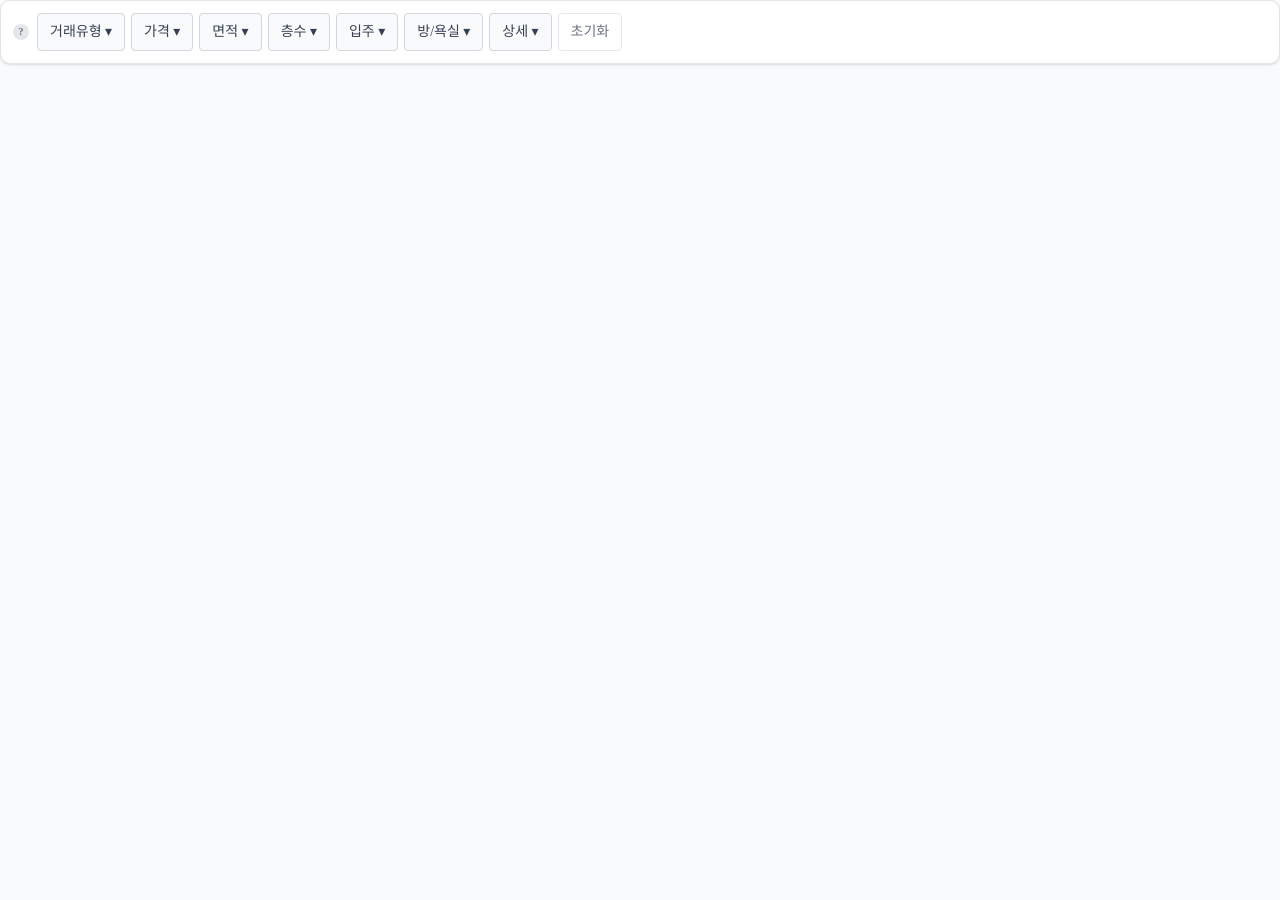
Scenario: FilterBar — 거래유형 드롭다운 › 드롭다운 열면 거래유형 선택지 표시
Click the button "거래유형 ▾": [81, 32] box [37, 13, 125, 51]
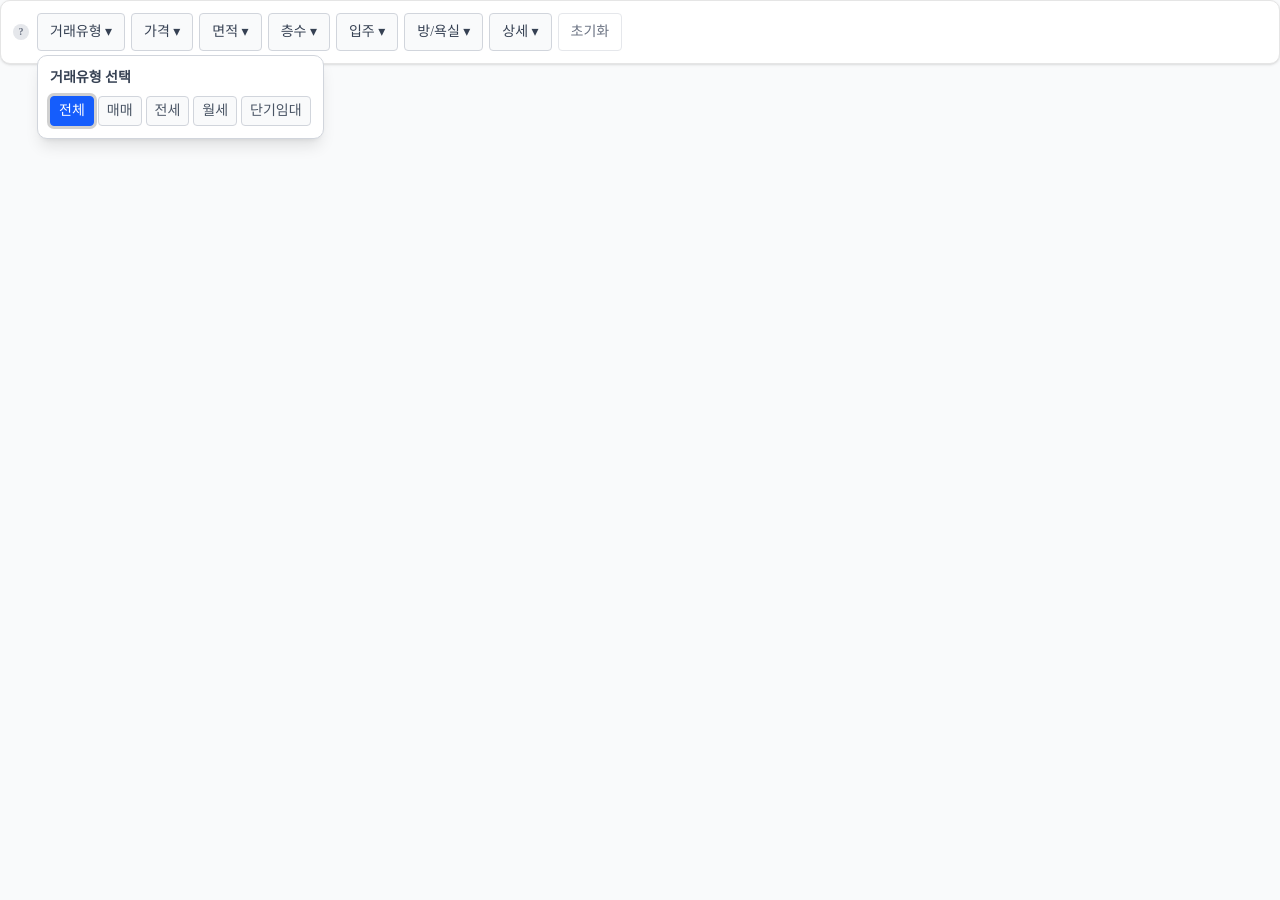
Expected: the radio button "매매" is shown, [98, 96, 142, 126]
Expected: the radio button "전세" is shown, [146, 96, 189, 126]
Expected: the radio button "월세" is shown, [193, 96, 237, 126]
